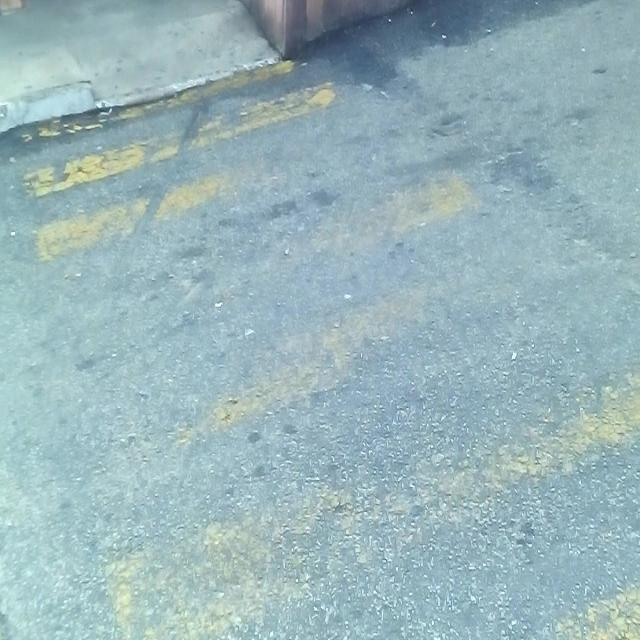crosswalk: (9, 57, 640, 640)
